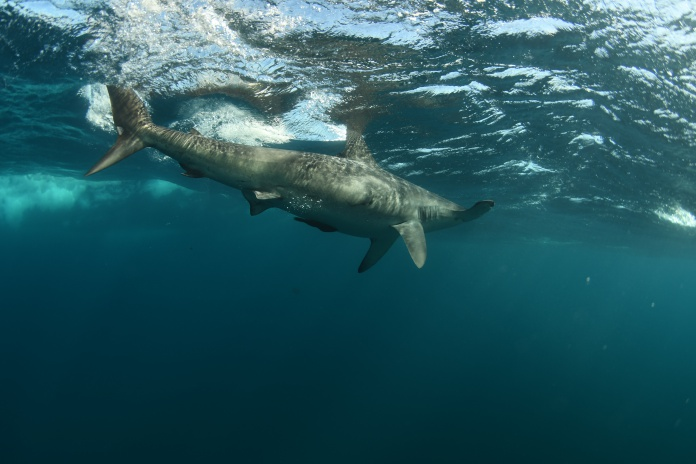Hammer: (73, 62, 492, 291)
